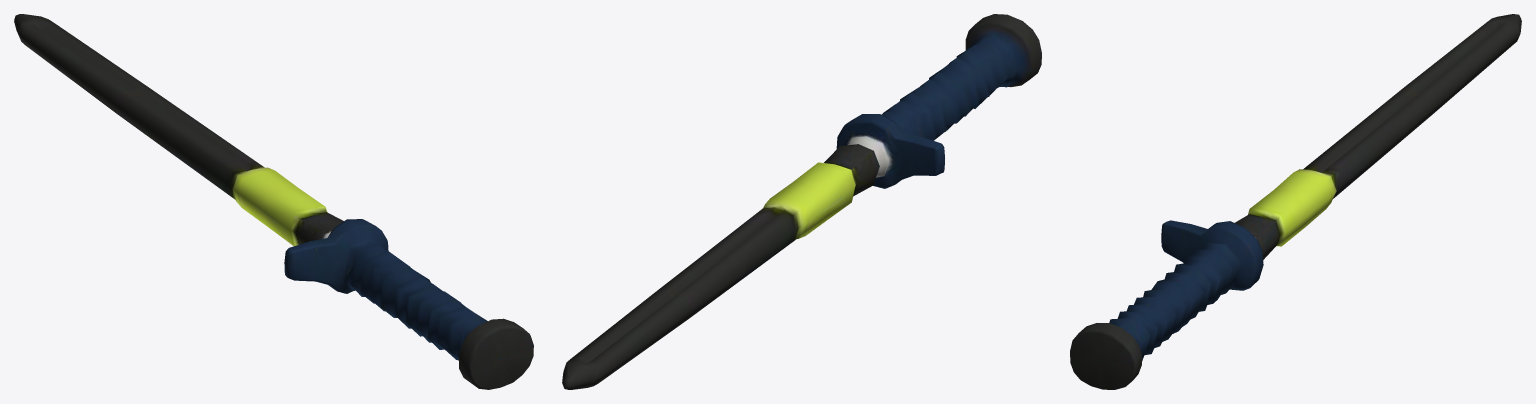
Rendered from m_short_sword.fbx.
3 views of the same model, side by side, from view 1: azimuth 30°, elevation 25°; view 2: azimuth 150°, elevation 25°; view 3: azimuth 330°, elevation 25° (orthographic). The views are drawn at different scales.
Visible parts, largest first — view 1: tripo_node_fc84e0b2-8ee2-43df-ac50-9929bdc6f358; view 2: tripo_node_fc84e0b2-8ee2-43df-ac50-9929bdc6f358; view 3: tripo_node_fc84e0b2-8ee2-43df-ac50-9929bdc6f358.
Boxes of the visible parts, x1,y1,x2,y2 form: tripo_node_fc84e0b2-8ee2-43df-ac50-9929bdc6f358: (14,14,533,389); tripo_node_fc84e0b2-8ee2-43df-ac50-9929bdc6f358: (562,14,1041,389); tripo_node_fc84e0b2-8ee2-43df-ac50-9929bdc6f358: (1070,14,1521,389).
Size of the model in its own units: 0.1461 by 0.0856 by 1.06.
1 material, 1 textured.
